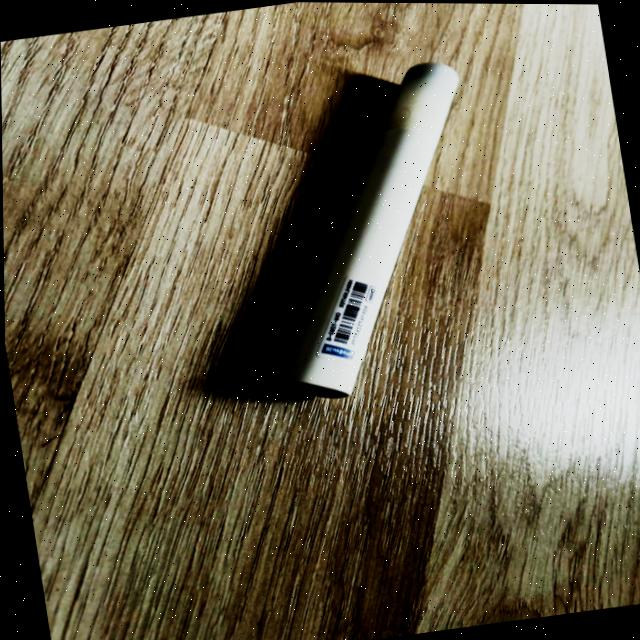HighLight Pen: (275, 63, 458, 398)
